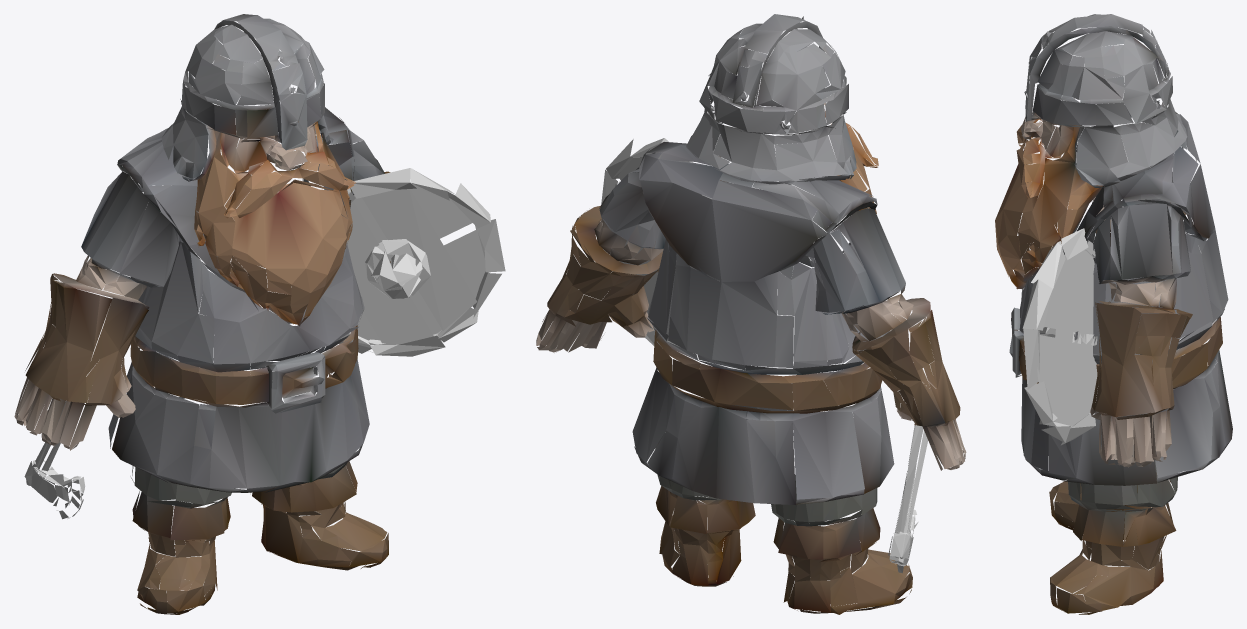
Rendered from militia.glb.
The picture shows the model from 3 angles, left to right: view 1: azimuth 30°, elevation 25°; view 2: azimuth 150°, elevation 25°; view 3: azimuth 270°, elevation 25°; orthographic projection. The views are drawn at different scales.
Parts seen in each view (by area): view 1: militia; view 2: militia; view 3: militia.
Boxes of the visible parts, x1=… form: militia: x1=14, y1=14, x2=505, y2=614; militia: x1=536, y1=14, x2=966, y2=614; militia: x1=995, y1=14, x2=1232, y2=614.
Bounding box in the file's own units: 1.28 × 1.6 × 0.6364.
